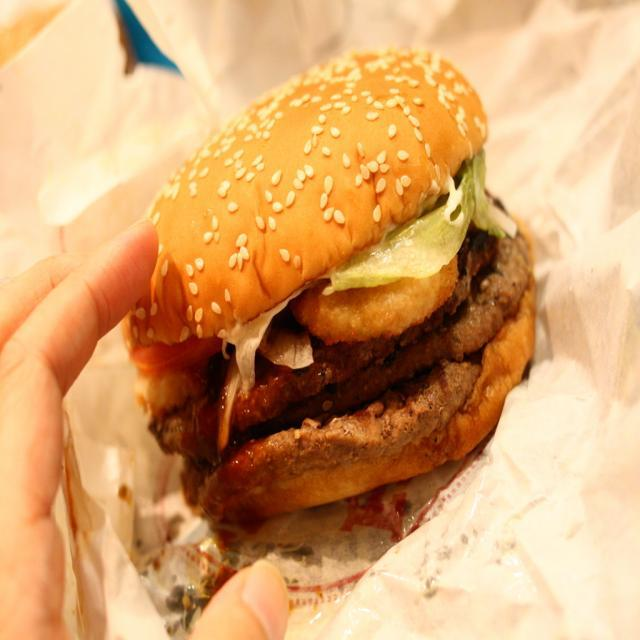Hamburger: (120, 53, 536, 525)
